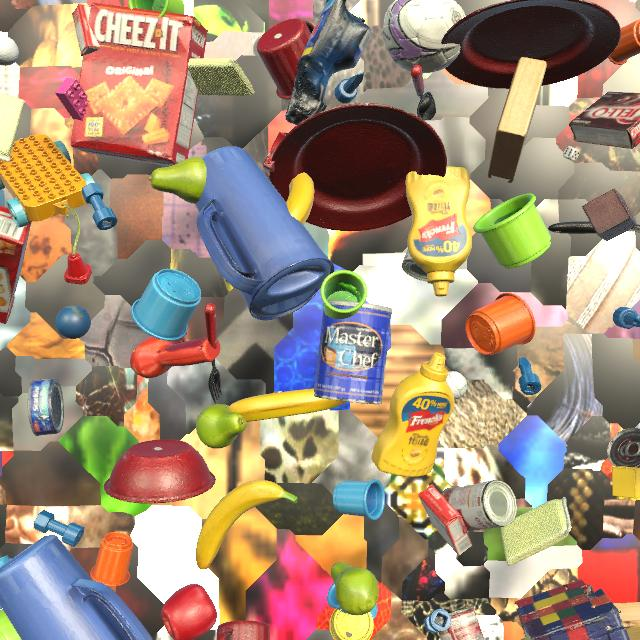ycb_002_master_chef_can: (314, 300, 393, 404)
ycb_003_cracker_box: (70, 2, 208, 166), (0, 206, 32, 324)
ycb_005_tomato_soup_can: (441, 480, 517, 531), (438, 606, 485, 640), (607, 428, 640, 468), (402, 249, 427, 282)
ycb_006_mustard_bottle: (371, 353, 454, 477), (406, 167, 472, 296)
ycb_007_tuna_fish_can: (28, 379, 64, 436)
ycb_008_pudding_box: (569, 91, 640, 149)
ycb_009_gelatin_box: (418, 484, 472, 556), (72, 4, 101, 56)
ycb_011_banana: (196, 480, 298, 570), (227, 389, 347, 422), (286, 173, 314, 225)
ycb_013_apple: (161, 584, 217, 640)
ycb_016_pear: (149, 157, 207, 204), (331, 562, 379, 615), (196, 404, 247, 449), (520, 637, 530, 640)
